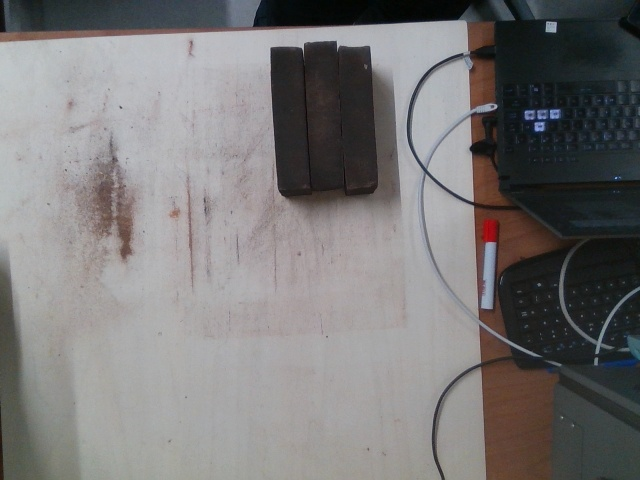brick-side: (337, 44, 378, 185), (269, 46, 309, 187), (303, 42, 343, 183)
